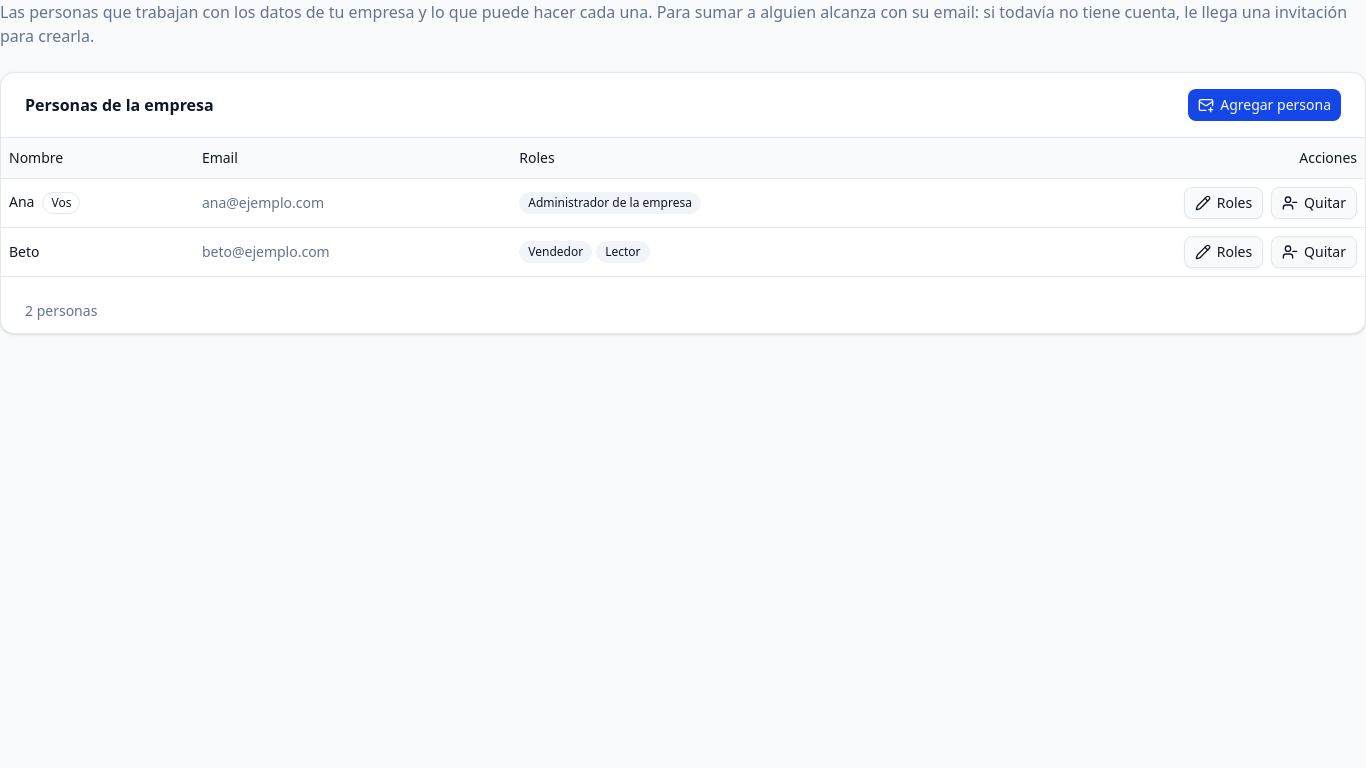
Scenario: Equipo › cambia los roles de una persona partiendo de los que tiene
The image size is (1366, 768).
Click the button with aria-label "Cambiar roles de Beto".
click(1223, 252)  # box x1=1184 y1=236 x2=1263 y2=268
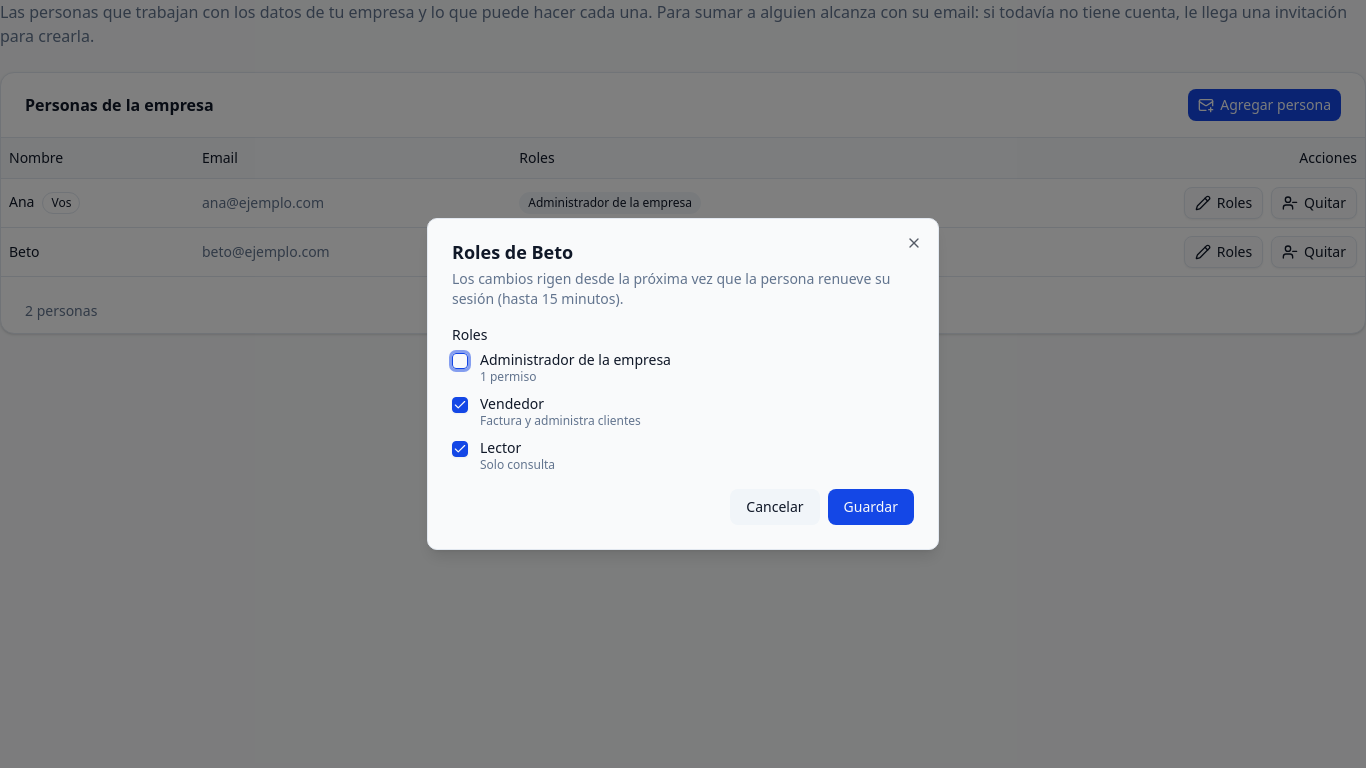
Check: the text "Factura y administra clientes" is shown, box x1=480 y1=413 x2=641 y2=429
Check: the text "1 permiso" is shown, box x1=480 y1=368 x2=536 y2=385
Click the 3rd checkbox named "Lector".
click(460, 449)  # box x1=452 y1=441 x2=468 y2=457
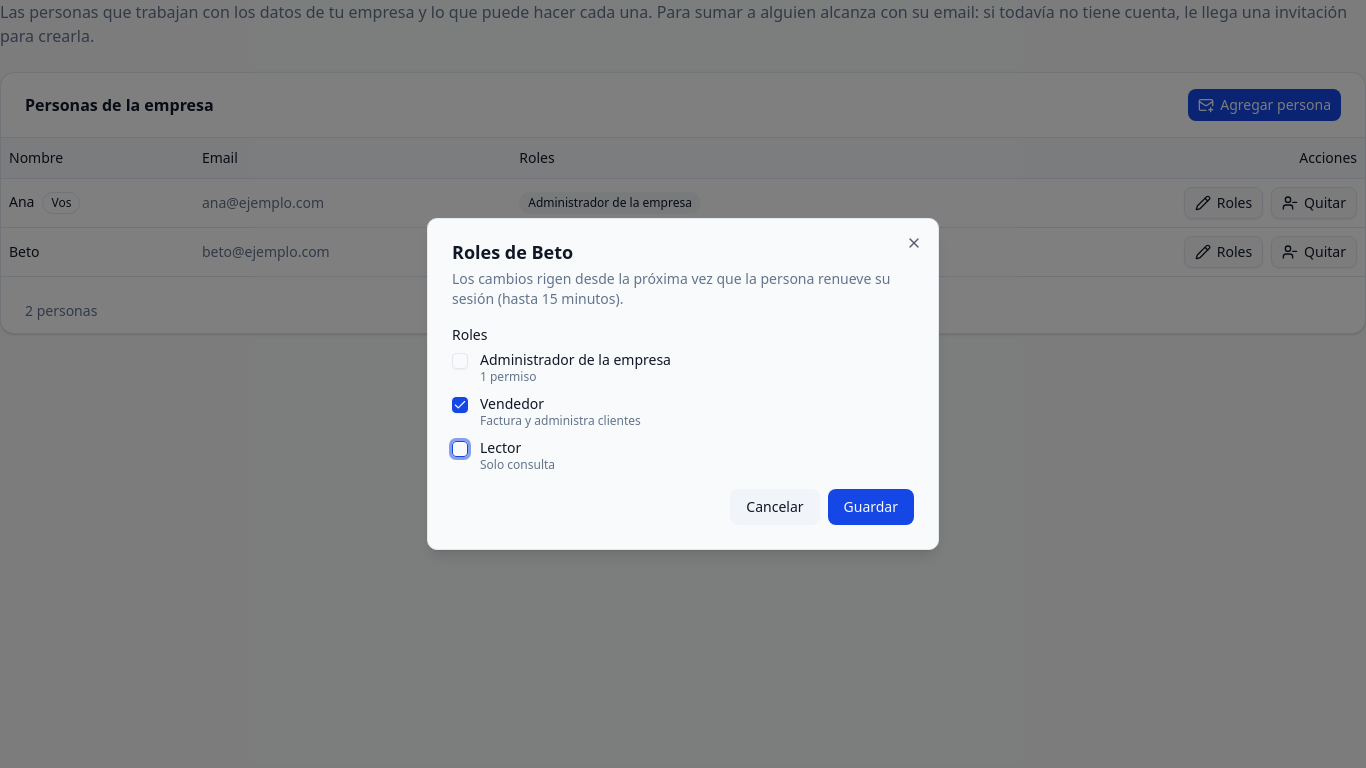
Click the button "Guardar".
click(871, 507)  # box x1=828 y1=489 x2=914 y2=525
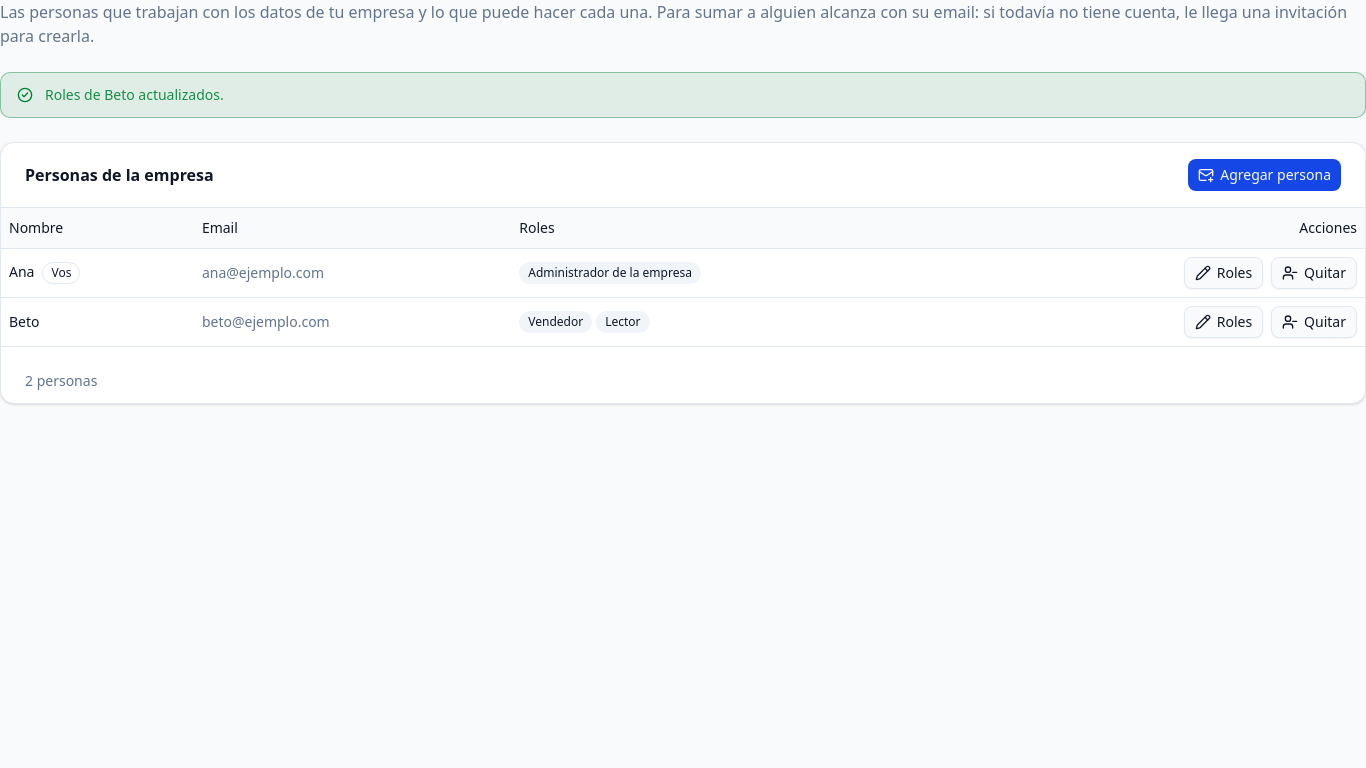
Check: the text "Roles de Beto actualizados." is shown, box x1=45 y1=85 x2=224 y2=104
